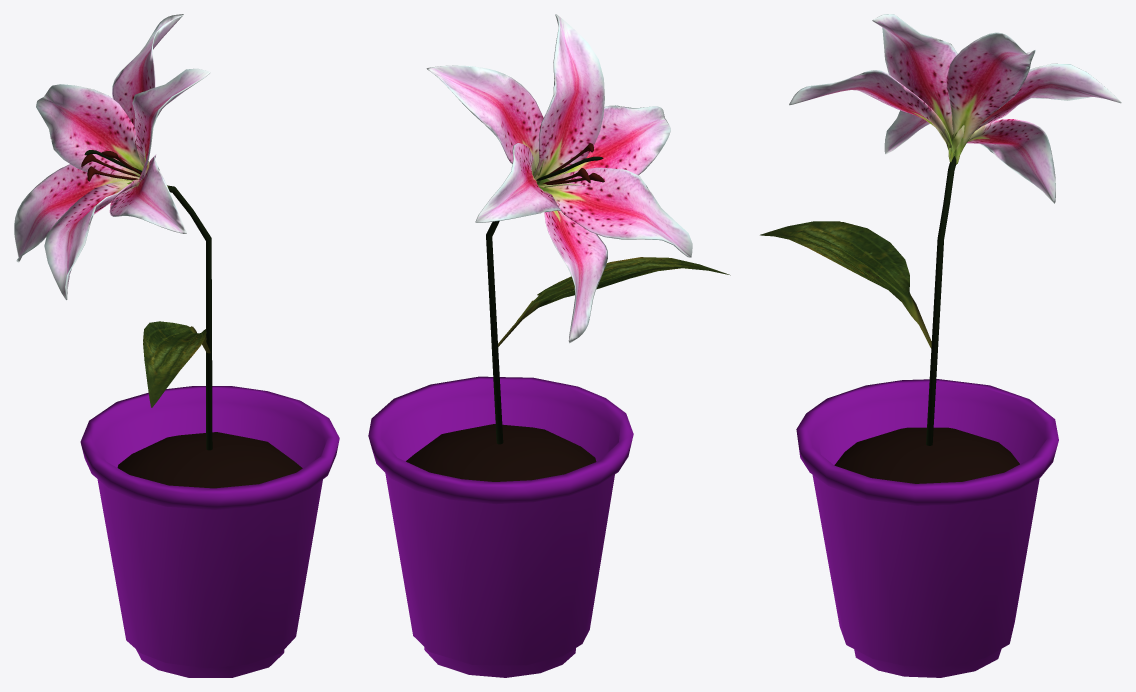
File: Stargazerlily0621.obj
The picture shows the model from 3 angles, left to right: view 1: azimuth 30°, elevation 25°; view 2: azimuth 150°, elevation 25°; view 3: azimuth 270°, elevation 25°; orthographic projection. The views are drawn at different scales.
Visible parts, largest first — view 1: Pot_Cylinder, Stargazer_lily_Plane.005, stargazer_lily_leaf_Plane.004, stem_Cylinder.007, MIddle2_Brown_Cylinder.001; view 2: Pot_Cylinder, Stargazer_lily_Plane.005, stargazer_lily_leaf_Plane.004, stem_Cylinder.007, MIddle2_Brown_Cylinder.001; view 3: Pot_Cylinder, Stargazer_lily_Plane.005, stargazer_lily_leaf_Plane.004, stem_Cylinder.007.
Boxes of the visible parts, bbox=[...] form: Pot_Cylinder: bbox=[80, 386, 339, 677]; Stargazer_lily_Plane.005: bbox=[14, 14, 210, 300]; stargazer_lily_leaf_Plane.004: bbox=[143, 321, 210, 407]; stem_Cylinder.007: bbox=[167, 185, 212, 450]; MIddle2_Brown_Cylinder.001: bbox=[81, 151, 141, 181]; Pot_Cylinder: bbox=[368, 376, 633, 677]; Stargazer_lily_Plane.005: bbox=[426, 14, 692, 343]; stargazer_lily_leaf_Plane.004: bbox=[498, 257, 730, 346]; stem_Cylinder.007: bbox=[486, 221, 503, 444]; MIddle2_Brown_Cylinder.001: bbox=[543, 143, 604, 184]; Pot_Cylinder: bbox=[796, 379, 1058, 677]; Stargazer_lily_Plane.005: bbox=[789, 14, 1121, 203]; stargazer_lily_leaf_Plane.004: bbox=[760, 221, 931, 348]; stem_Cylinder.007: bbox=[926, 156, 956, 445].
Size of the model in its own units: 3.44 by 7.13 by 3.81.
